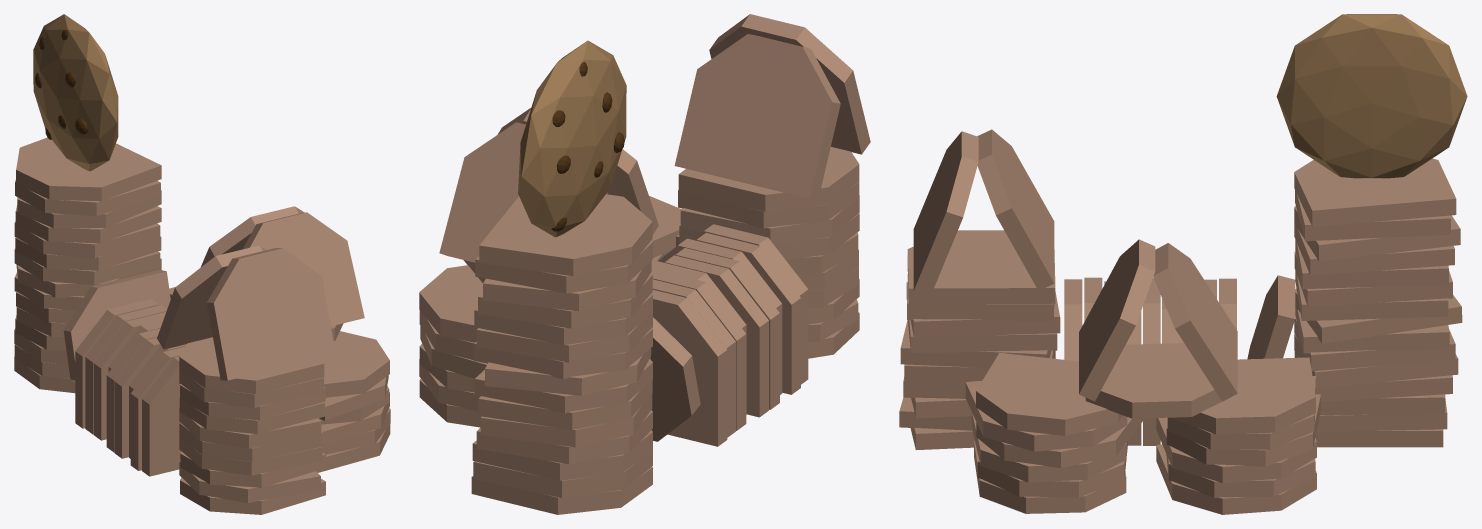
File: wieza_ciastko.fbx
3 renders of one model, left to right at view 1: azimuth 30°, elevation 25°; view 2: azimuth 150°, elevation 25°; view 3: azimuth 270°, elevation 25°, orthographic. The views are drawn at different scales.
Visible parts, largest first — view 1: Cube.011; view 2: Cube.011; view 3: Cube.011.
Boxes of the visible parts, bbox=[...] form: Cube.011: bbox=[14, 14, 390, 514]; Cube.011: bbox=[419, 14, 870, 514]; Cube.011: bbox=[899, 14, 1467, 514].
Size of the model in its own units: 593 by 845 by 1077.
